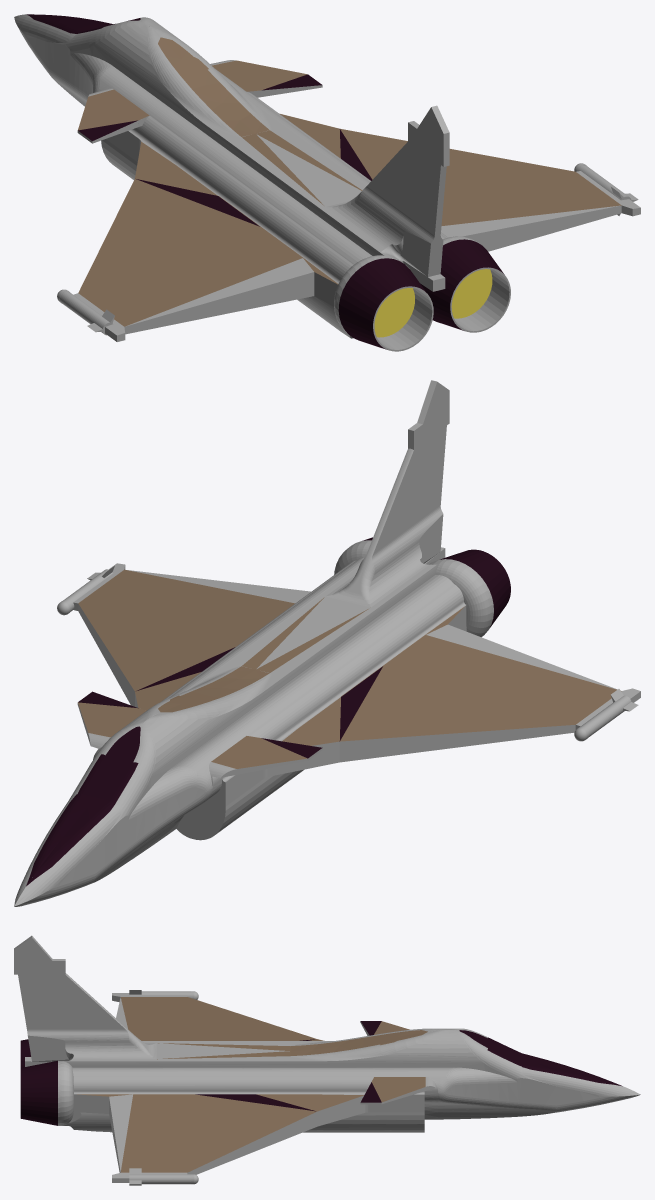
3 views of the same model, one above another, from view 1: azimuth 30°, elevation 25°; view 2: azimuth 150°, elevation 25°; view 3: azimuth 270°, elevation 25° (orthographic). The views are drawn at different scales.
Visible parts, largest first — view 1: avion noe; view 2: avion noe; view 3: avion noe.
Boxes of the visible parts, bbox=[...] form: avion noe: bbox=[14, 14, 640, 351]; avion noe: bbox=[14, 380, 640, 906]; avion noe: bbox=[14, 935, 640, 1185].
Size of the model in its own units: 75.76 by 33.7 by 104.
